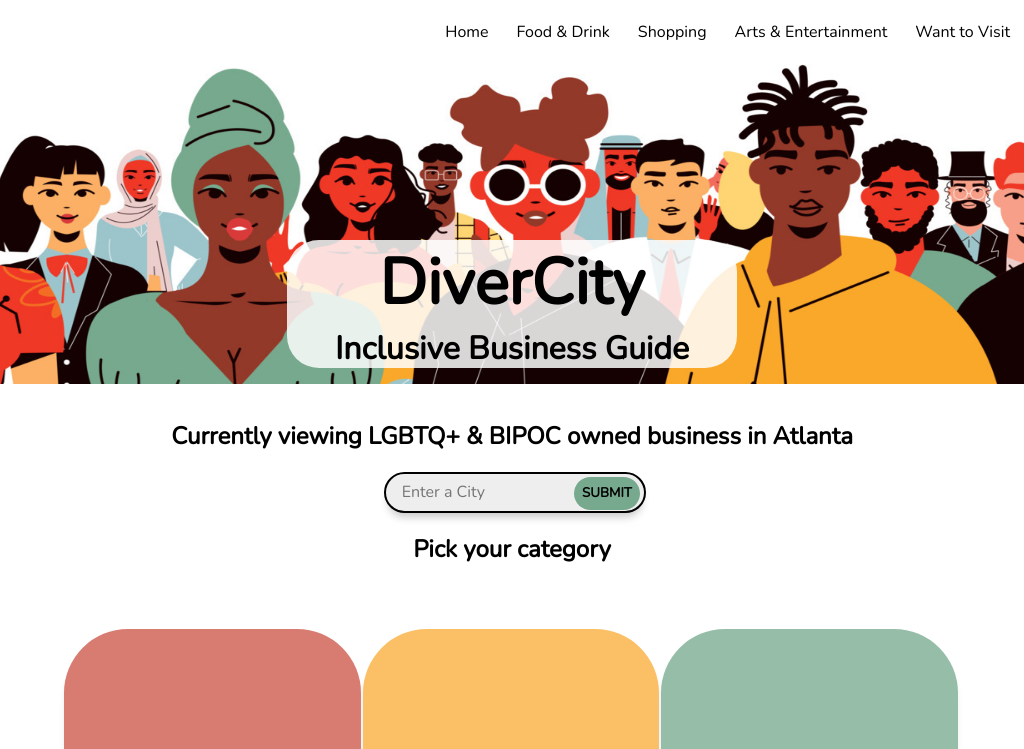
DiverCity homepage flow › should contain a form to select a new search location
Type "Denver" into the field with placeholder "Enter a City" at (515, 493), box [384, 472, 646, 513]
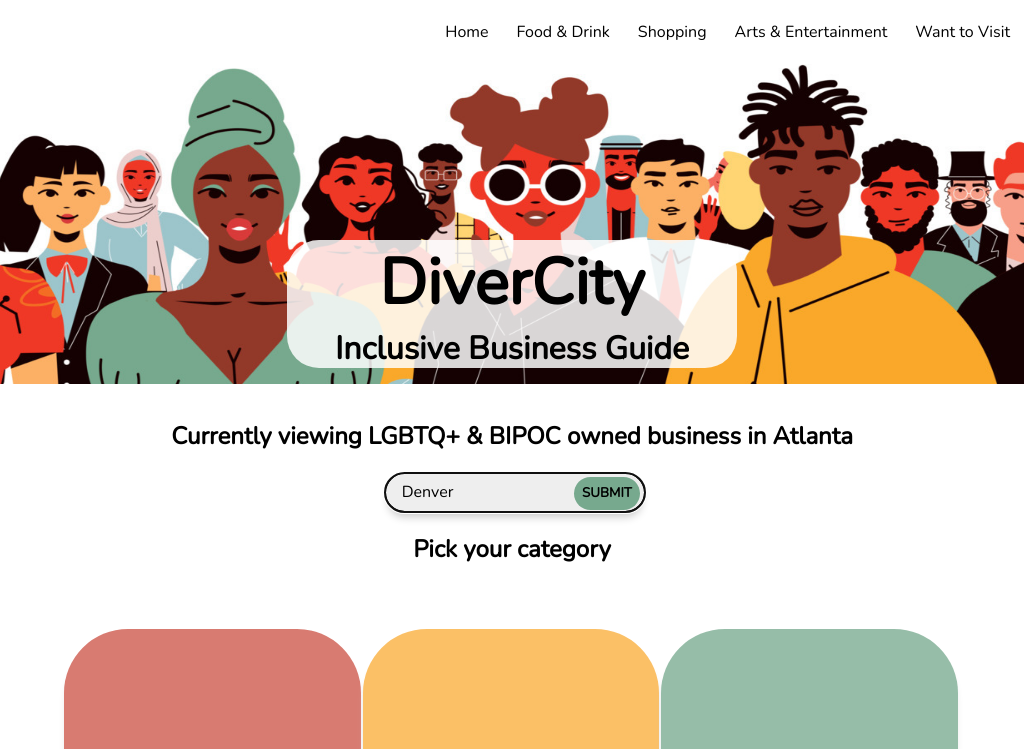
Click the button with class "submit-button" at (608, 494), box [574, 477, 641, 511]
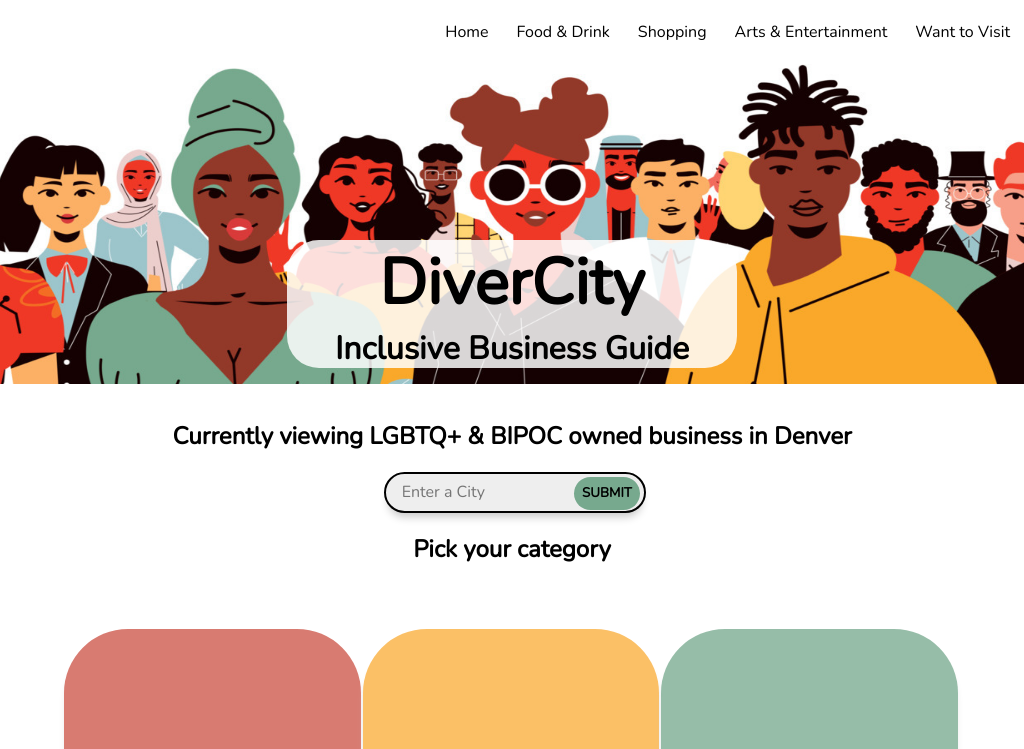
Result: the heading "Currently viewing LGBTQ+ & BIPOC owned business in Denver" is shown at [172, 420, 852, 452]
